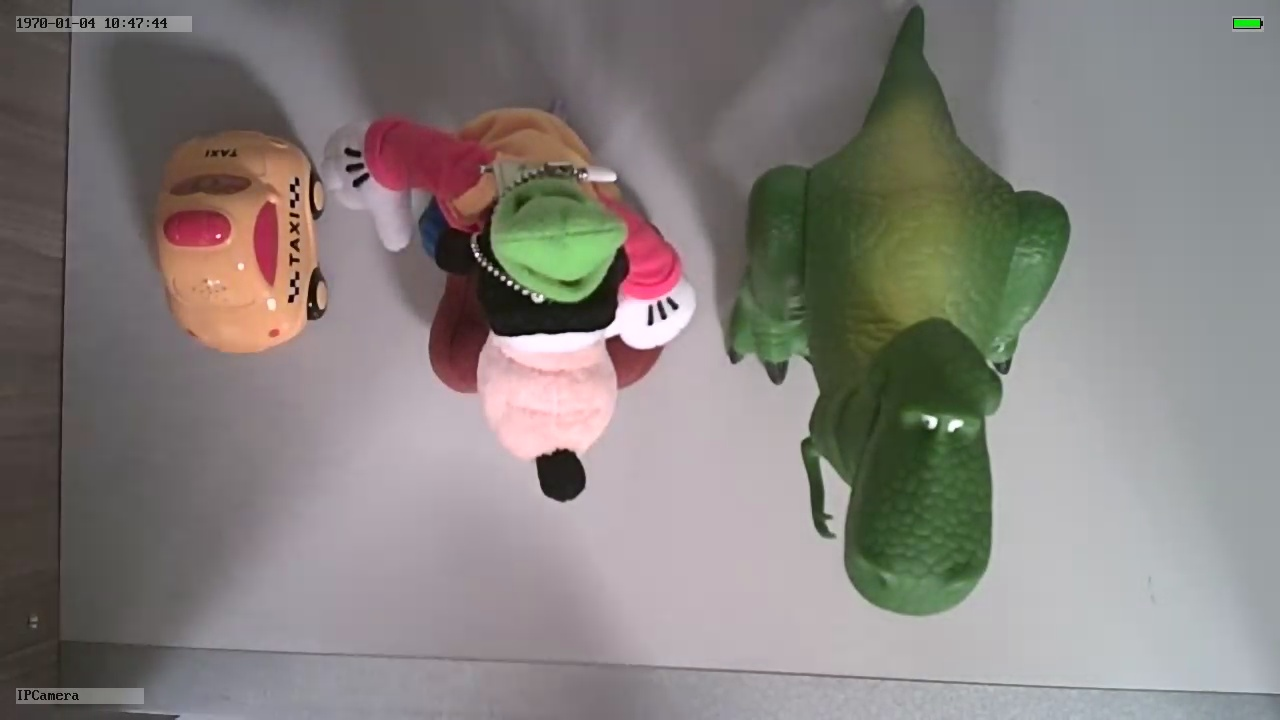car: (152, 124, 330, 356)
goofy: (322, 101, 697, 504)
rex: (726, 89, 1073, 617)
